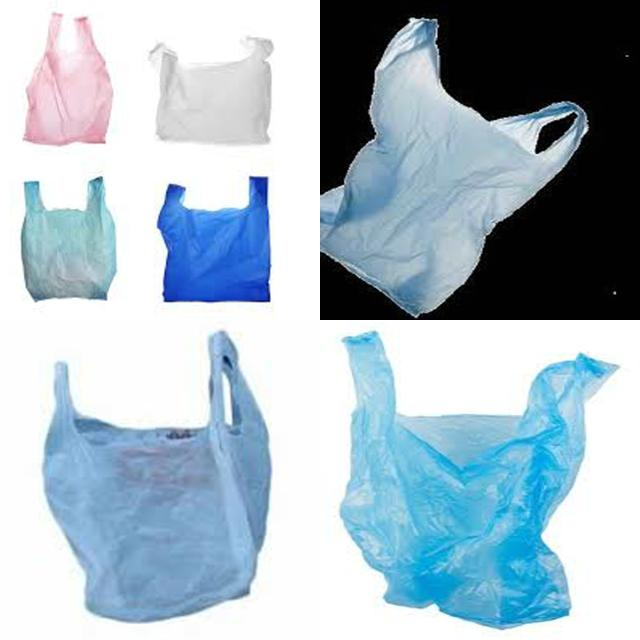Single-layer Plastic: (341, 332, 616, 628), (321, 19, 588, 316), (44, 331, 270, 621), (158, 176, 270, 301), (150, 38, 274, 144), (24, 12, 112, 145), (21, 178, 116, 301)
